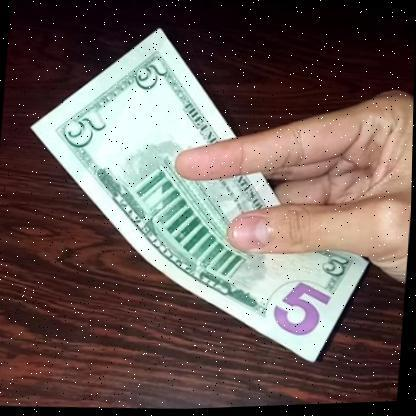five-back: (14, 11, 390, 365)
